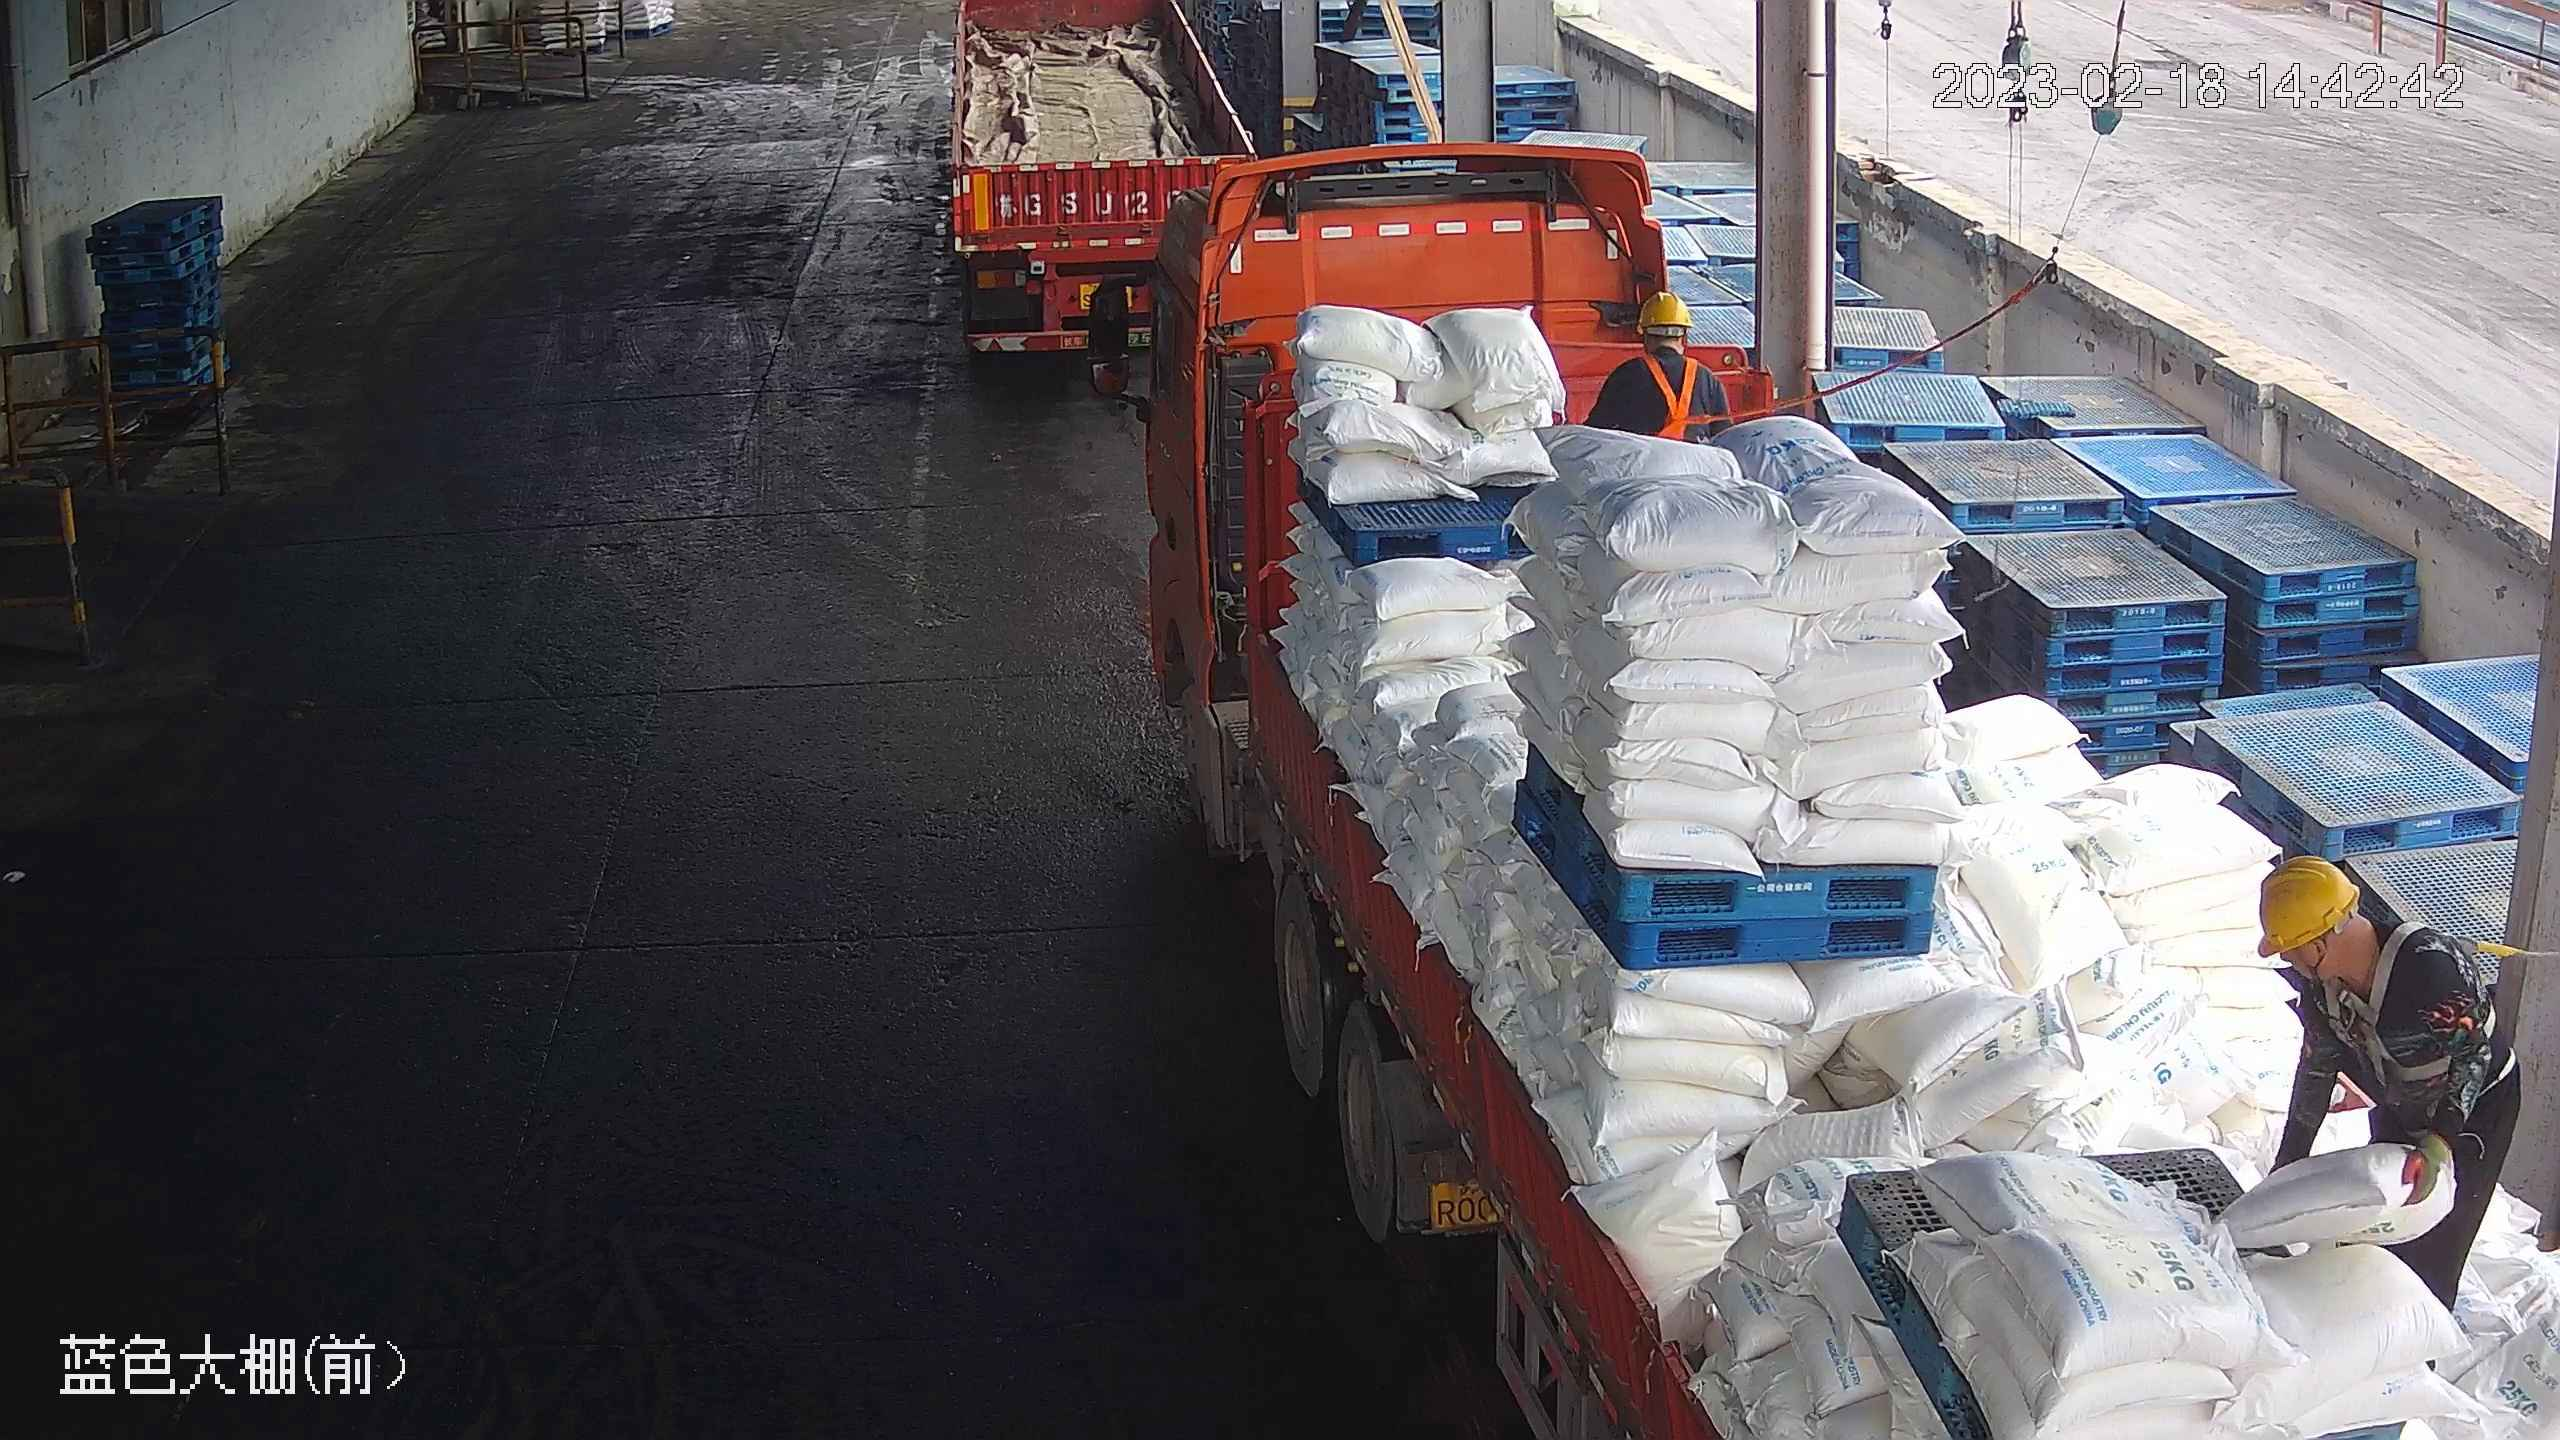belt: (2329, 912, 2511, 1067), (1626, 350, 1727, 439)
head: (2251, 850, 2476, 1035), (1605, 287, 1724, 398)
helmet: (2252, 850, 2365, 957), (1637, 286, 1692, 330)
people: (2246, 849, 2521, 1322)
truck: (1091, 141, 2557, 1440), (949, 2, 1264, 357)
